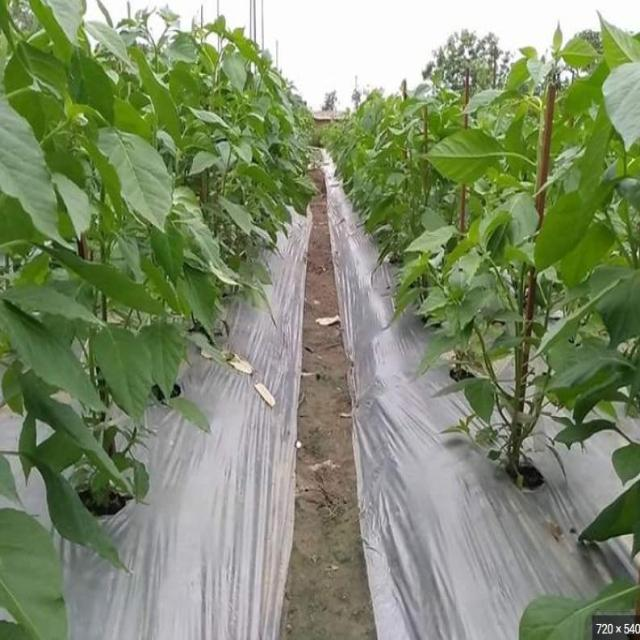row: (262, 157, 411, 640)
